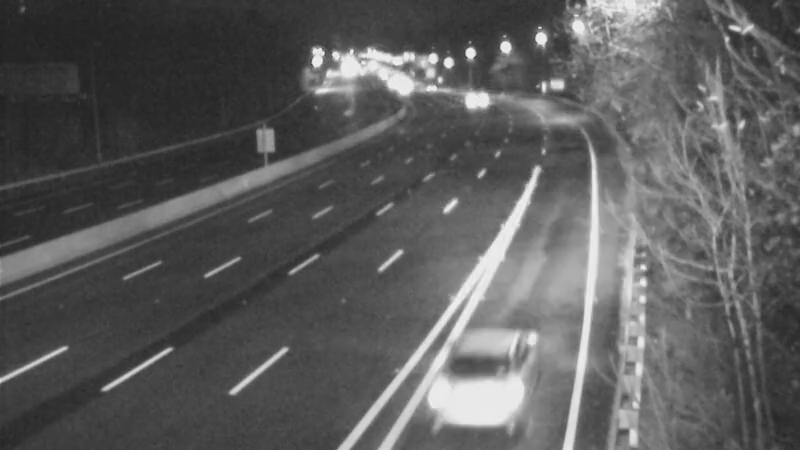vehicle: (414, 331, 524, 441), (407, 64, 457, 114), (445, 72, 495, 122)
